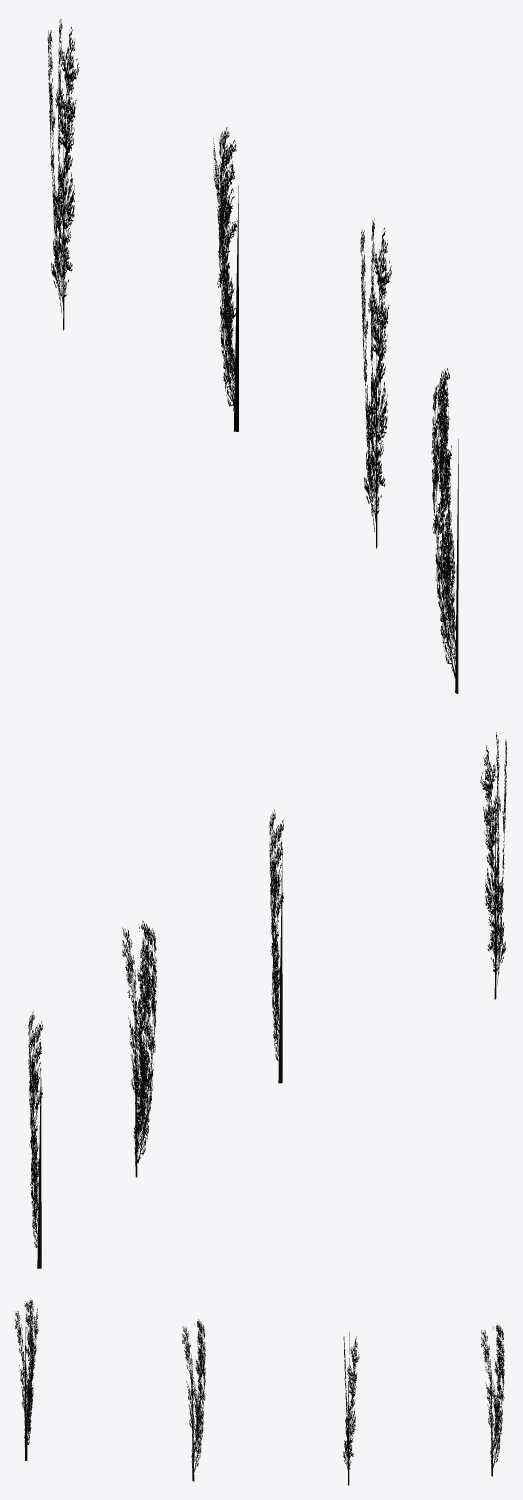
The model's file is cell_14_-10.gltf.
3 renders of one model, top to bottom at view 1: azimuth 30°, elevation 25°; view 2: azimuth 150°, elevation 25°; view 3: azimuth 270°, elevation 25°, orthographic. The views are drawn at different scales.
Parts seen in each view (by area): view 1: cell_14_-10; view 2: cell_14_-10; view 3: cell_14_-10.
Part boxes in pixels (x1,y1,x2,y2): cell_14_-10: (47, 19, 458, 693); cell_14_-10: (28, 732, 507, 1268); cell_14_-10: (14, 1298, 504, 1485).
Bounding box in the file's own units: 11.09 × 23.38 × 63.88.
2 materials, 2 textured.
